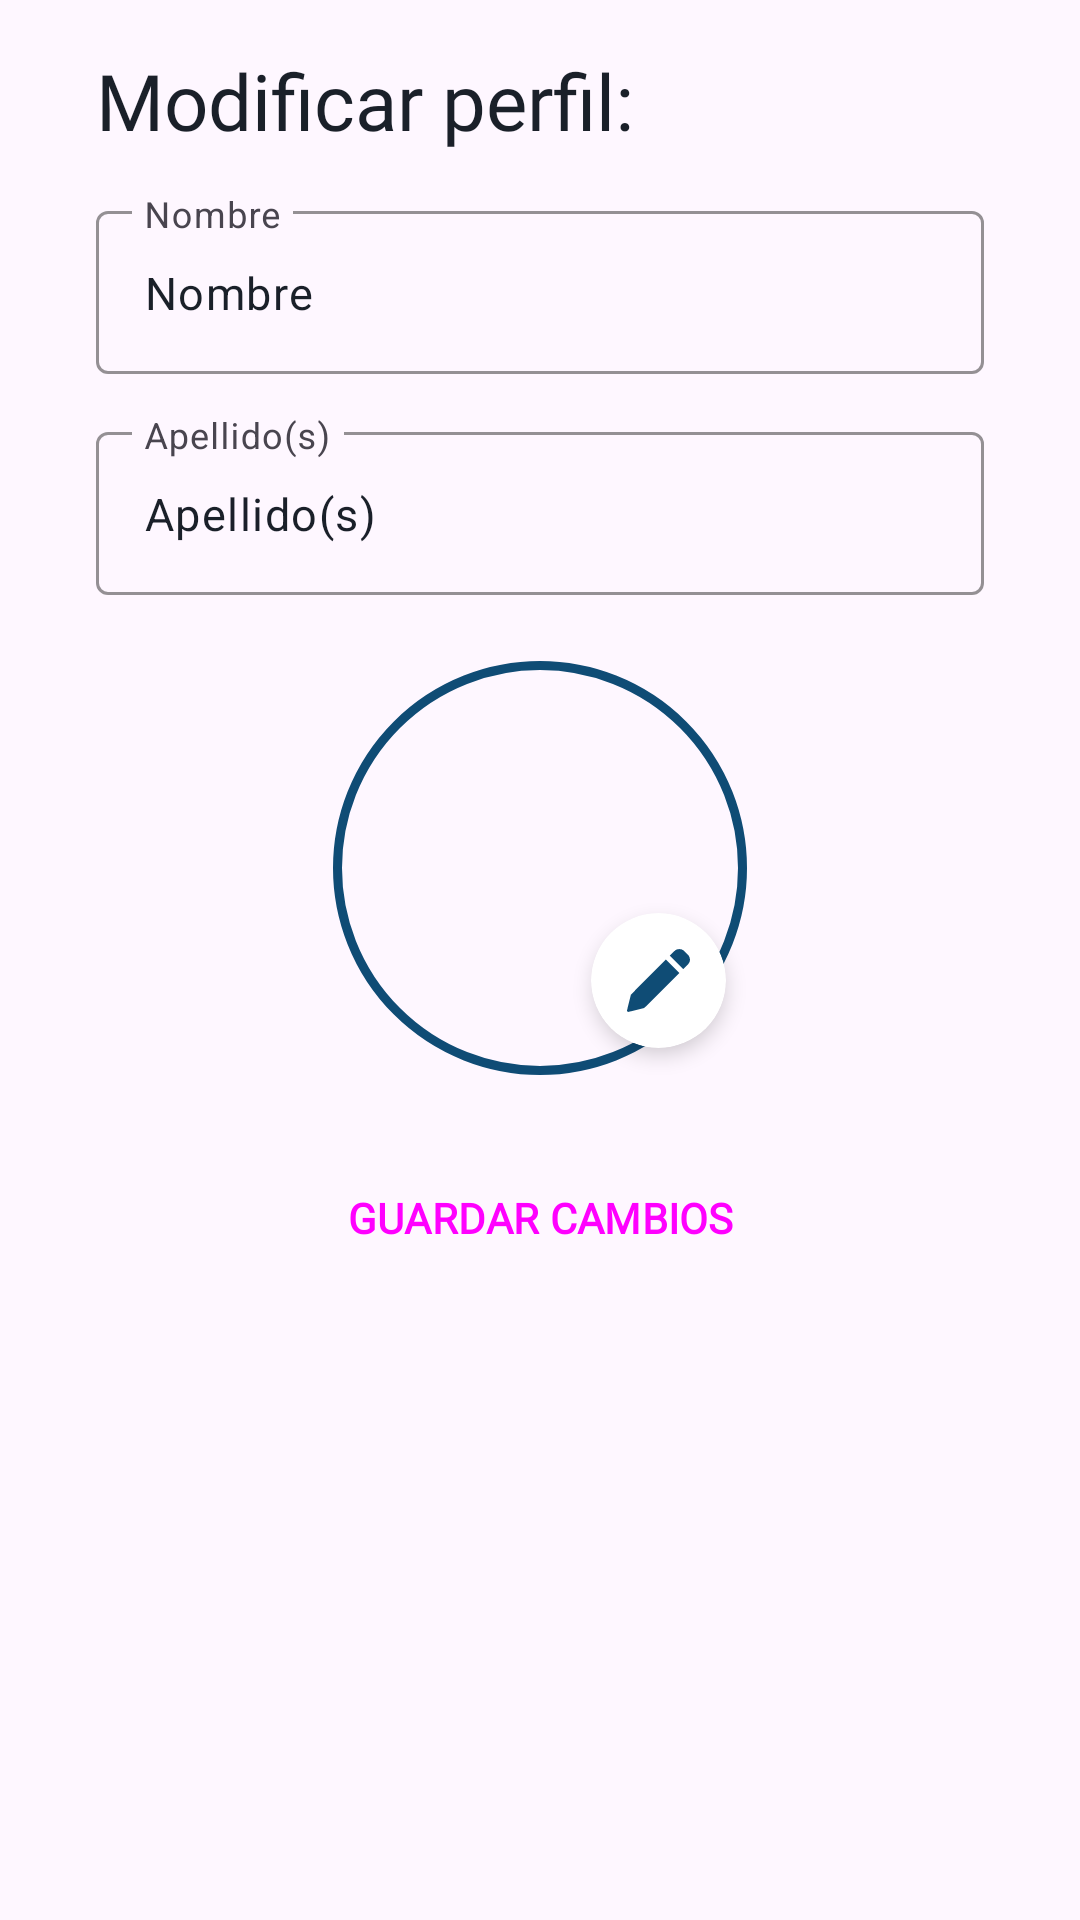

Icon click points for this 1080×1920 phone screenshot, format point (x, y):
edit: point (658, 980)
